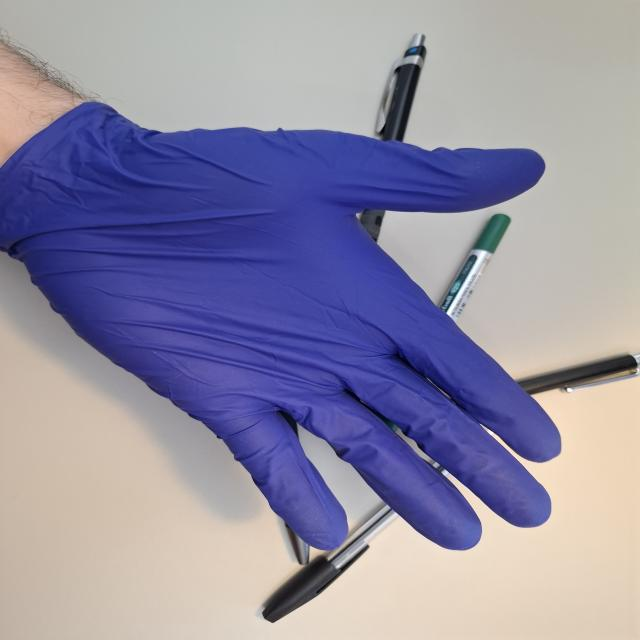glove_on: (0, 97, 558, 536)
